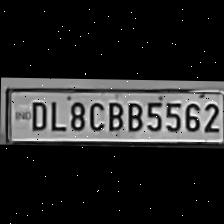2: (200, 99, 220, 130)
5: (144, 97, 162, 130), (162, 97, 180, 130)
6: (181, 99, 199, 130)
8: (66, 97, 86, 130)
B: (104, 97, 124, 130), (123, 98, 143, 131)
C: (86, 97, 104, 130)
D: (26, 97, 48, 130)
L: (47, 96, 65, 130)
